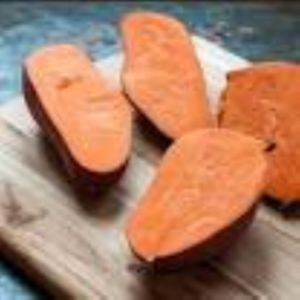sweet potato_brain food: (44, 73, 278, 235)
